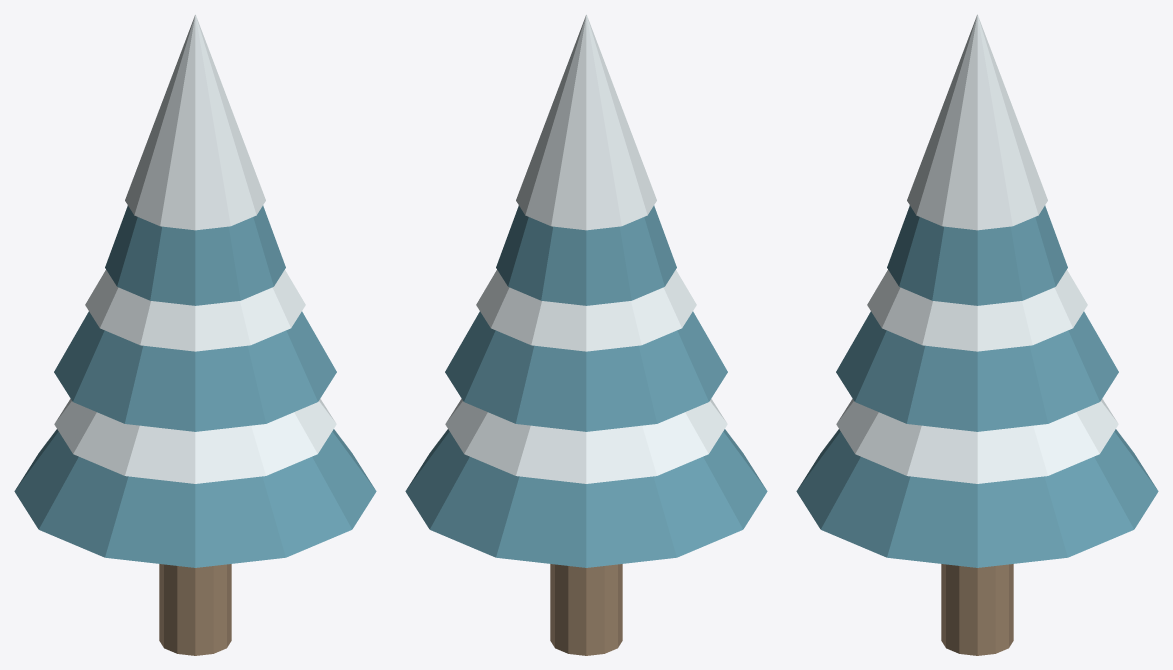
Rendered from snow_pine.glb.
3 renders of one model, left to right at view 1: azimuth 30°, elevation 25°; view 2: azimuth 150°, elevation 25°; view 3: azimuth 270°, elevation 25°, orthographic.
Visible parts, largest first — view 1: pine (×3), snow (×3), trunk; view 2: pine (×3), snow (×3), trunk; view 3: pine (×3), snow (×3), trunk.
Part boxes in pixels (x1,y1,x2,y2): pine (×3): [14, 205, 376, 567]; snow (×3): [54, 14, 336, 483]; trunk: [159, 564, 231, 655]; pine (×3): [405, 205, 767, 567]; snow (×3): [445, 14, 727, 483]; trunk: [550, 564, 622, 655]; pine (×3): [796, 205, 1158, 567]; snow (×3): [836, 14, 1118, 483]; trunk: [941, 564, 1013, 655].
Size of the model in its own units: 2.2 by 4.2 by 2.2.
